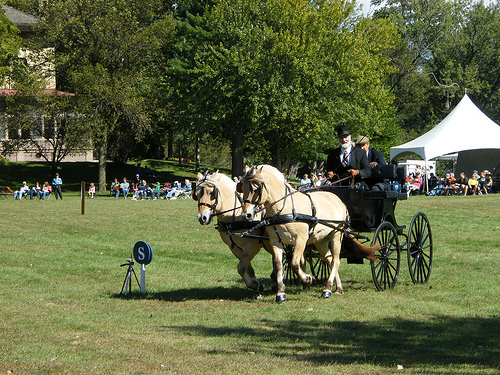horse: (235, 163, 349, 301), (193, 167, 266, 298)
